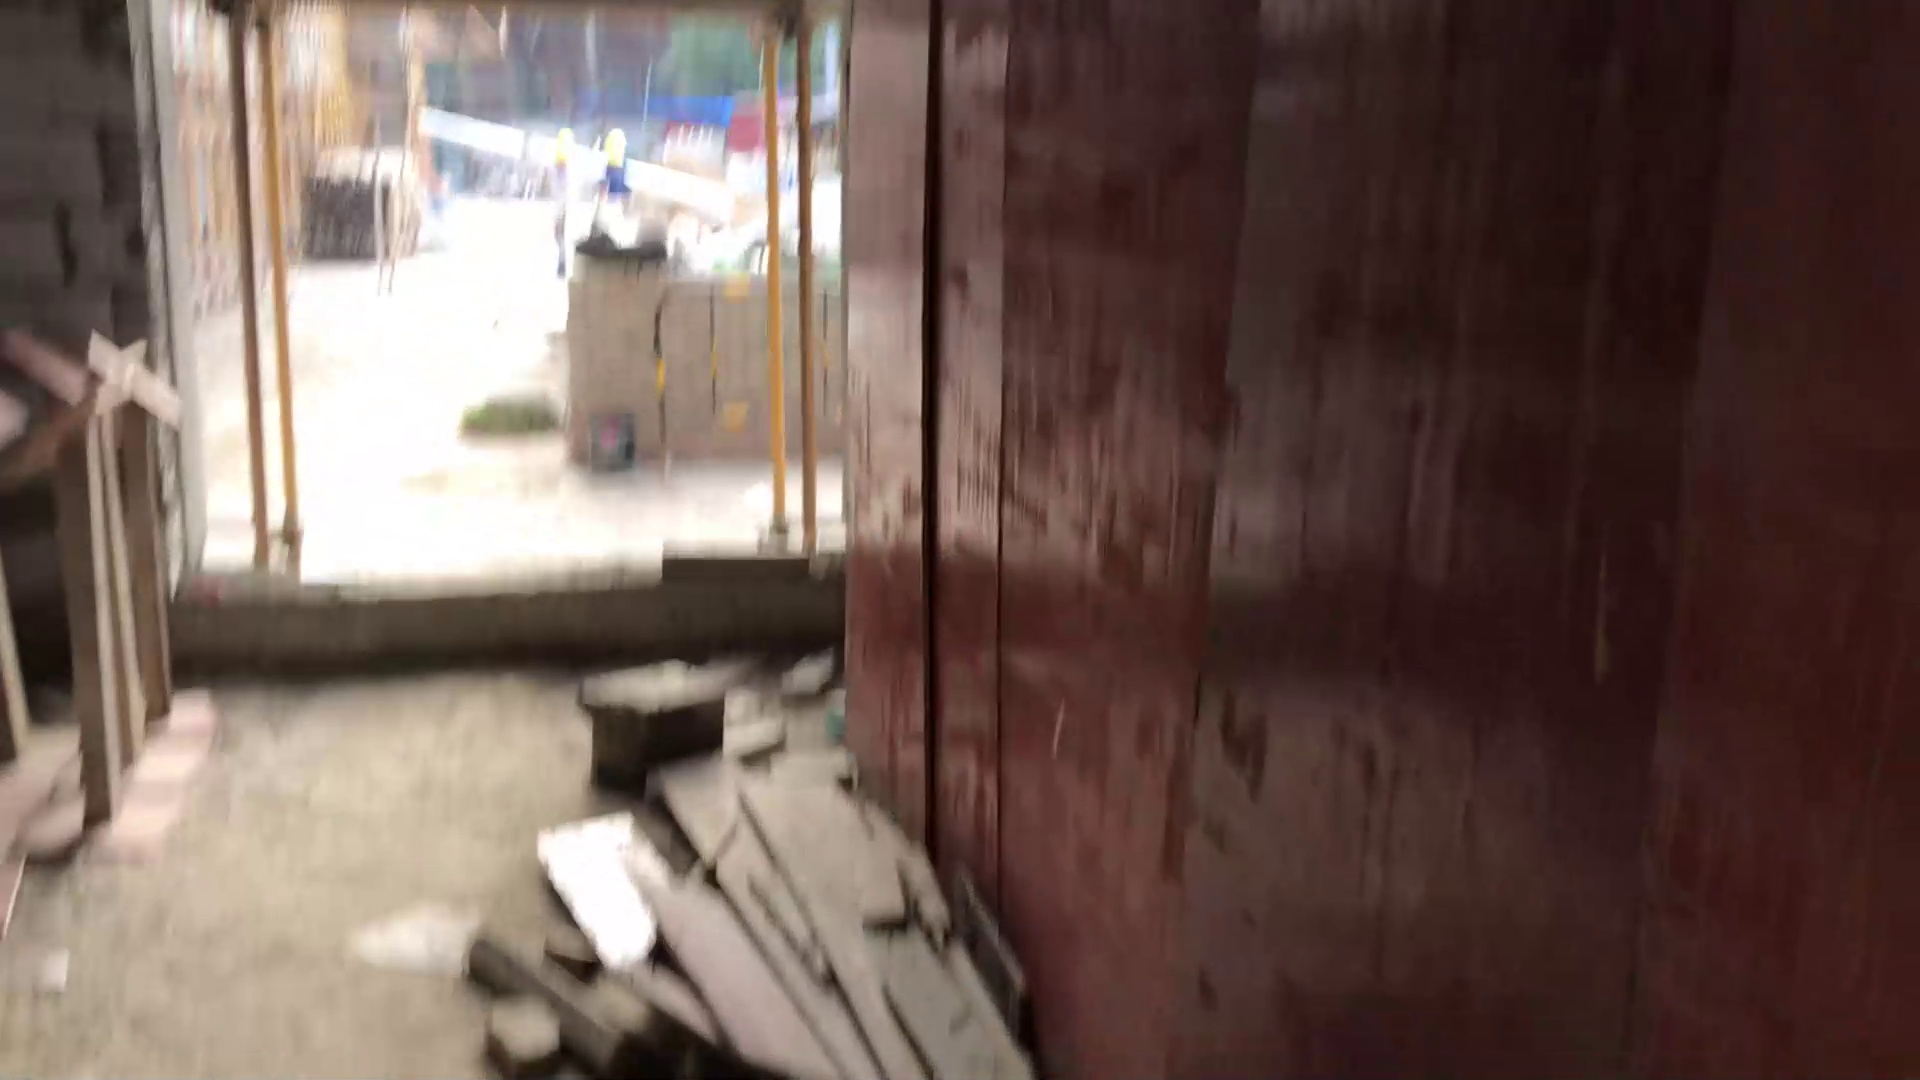fence: (638, 281, 853, 475)
person: (538, 121, 594, 273), (596, 125, 643, 210)
